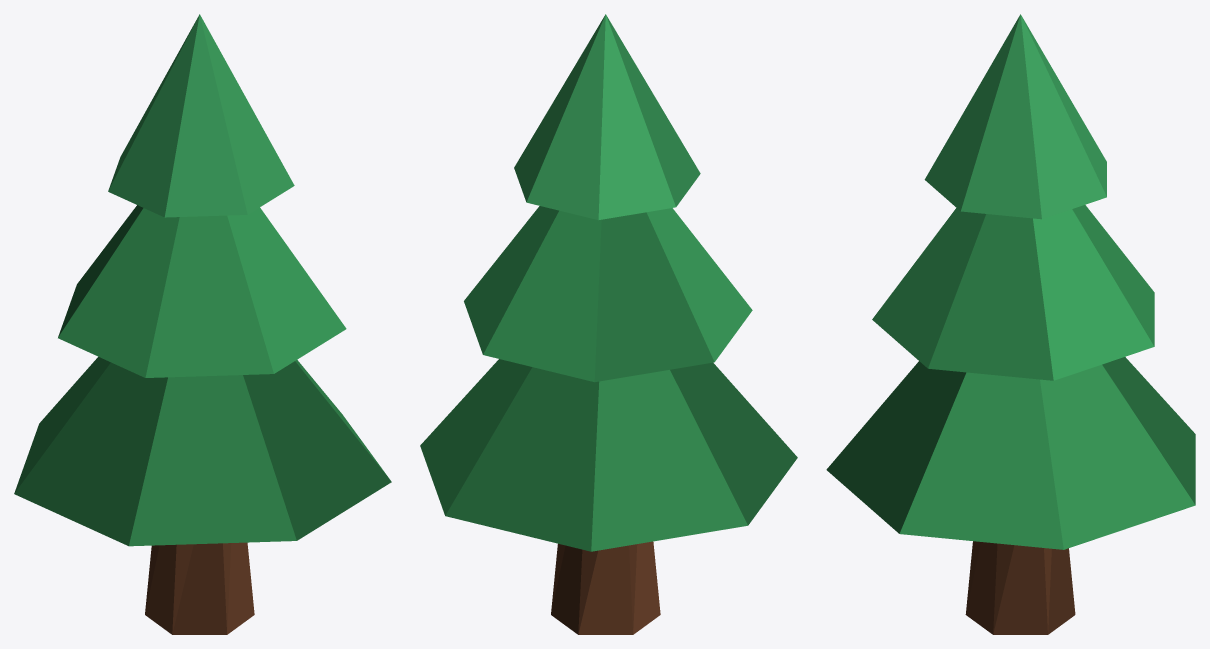
Rendered from tree.glb.
3 views of the same model, side by side, from view 1: azimuth 30°, elevation 25°; view 2: azimuth 150°, elevation 25°; view 3: azimuth 270°, elevation 25° (orthographic).
Bounding box in the file's own units: 1.66 × 2.9 × 1.62.
